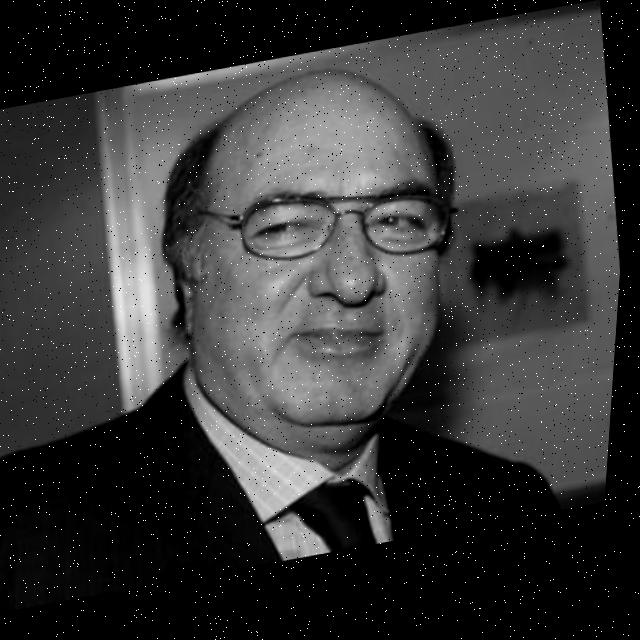face: (157, 51, 469, 456)
